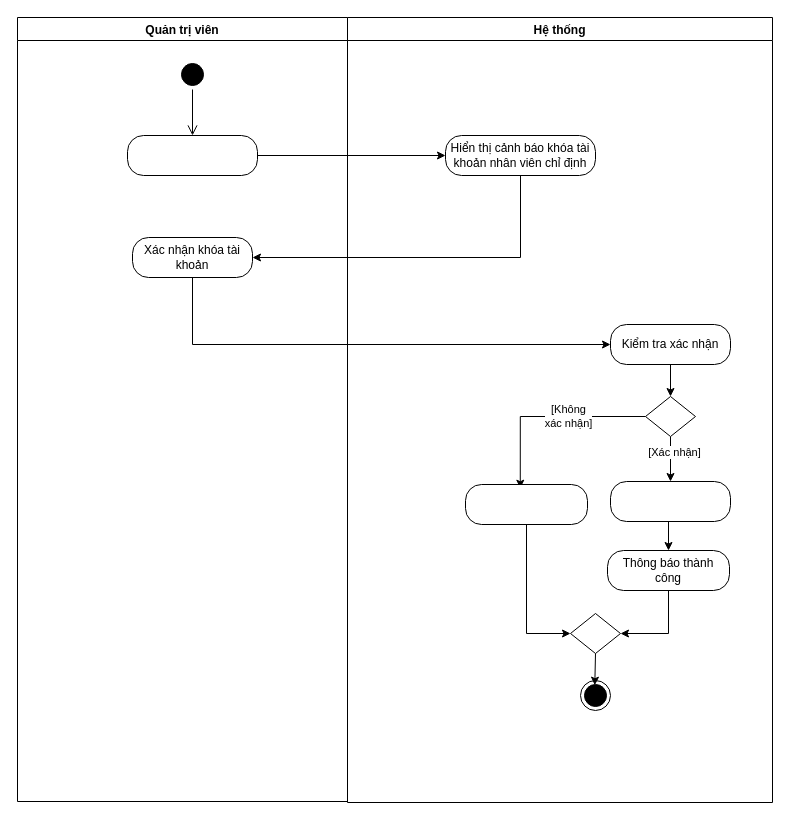
Some shapes in this 790 by 820 pixel diagram are drawn without their labels. Each missing label, with the centre of its shape:
"Chọn Khóa tài khoản" belongs at point 192,155.
"Thông báo xác nhận cảnh báo thất bại" belongs at point 526,504.
"Xử lý thao tác" belongs at point 670,501.
